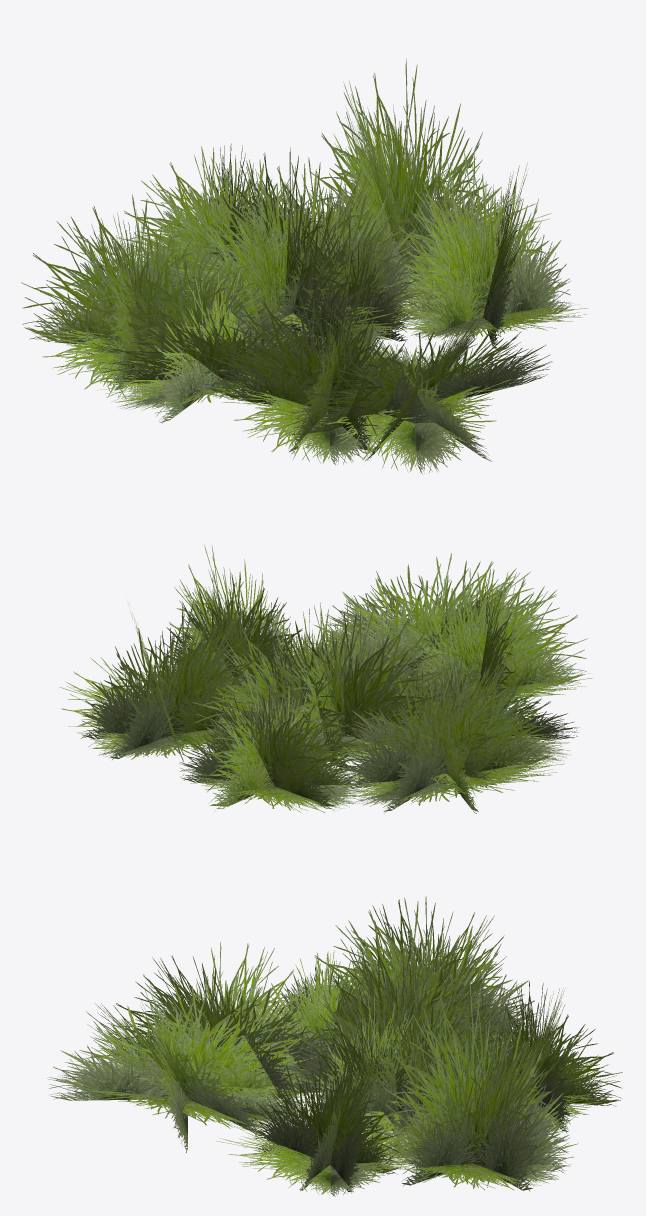
Rendered from Grass Patch Medium.fbx.
The picture shows the model from 3 angles, top to bottom: view 1: azimuth 30°, elevation 25°; view 2: azimuth 150°, elevation 25°; view 3: azimuth 270°, elevation 25°; orthographic projection. The views are drawn at different scales.
Visible parts, largest first — view 1: Medium_Grass_Patch; view 2: Medium_Grass_Patch; view 3: Medium_Grass_Patch.
Part boxes in pixels (x1=…): Medium_Grass_Patch: x1=21, y1=58, x2=588, y2=474; Medium_Grass_Patch: x1=59, y1=544, x2=591, y2=813; Medium_Grass_Patch: x1=47, y1=896, x2=622, y2=1196.
Bounding box in the file's own units: 114 × 35.84 × 111.
